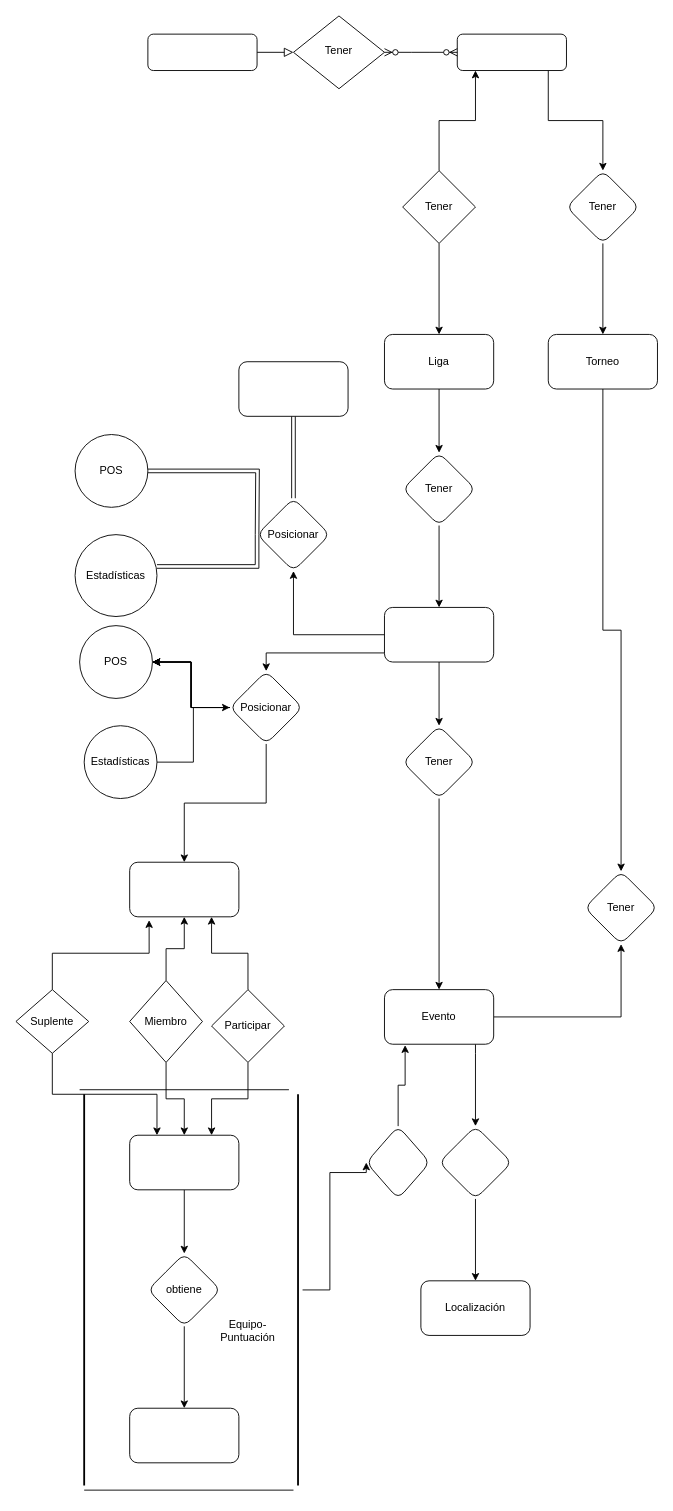
Some shapes in this 673 by 1511 pixel diagram are drawn without their labels. The box of each missing label's shape, as (x1, y1, x2, y2) in pixels:
Atleta: (129, 861, 239, 917)
Campeonato: (456, 33, 566, 71)
Equipo: (129, 1134, 239, 1190)
Facultad: (238, 361, 348, 416)
Grupo: (384, 607, 494, 662)
Modalidad Deportiva: (147, 33, 257, 71)
Pertenece: (365, 1125, 430, 1199)
Puntuación: (129, 1407, 239, 1463)
Realizar: (438, 1125, 512, 1199)
